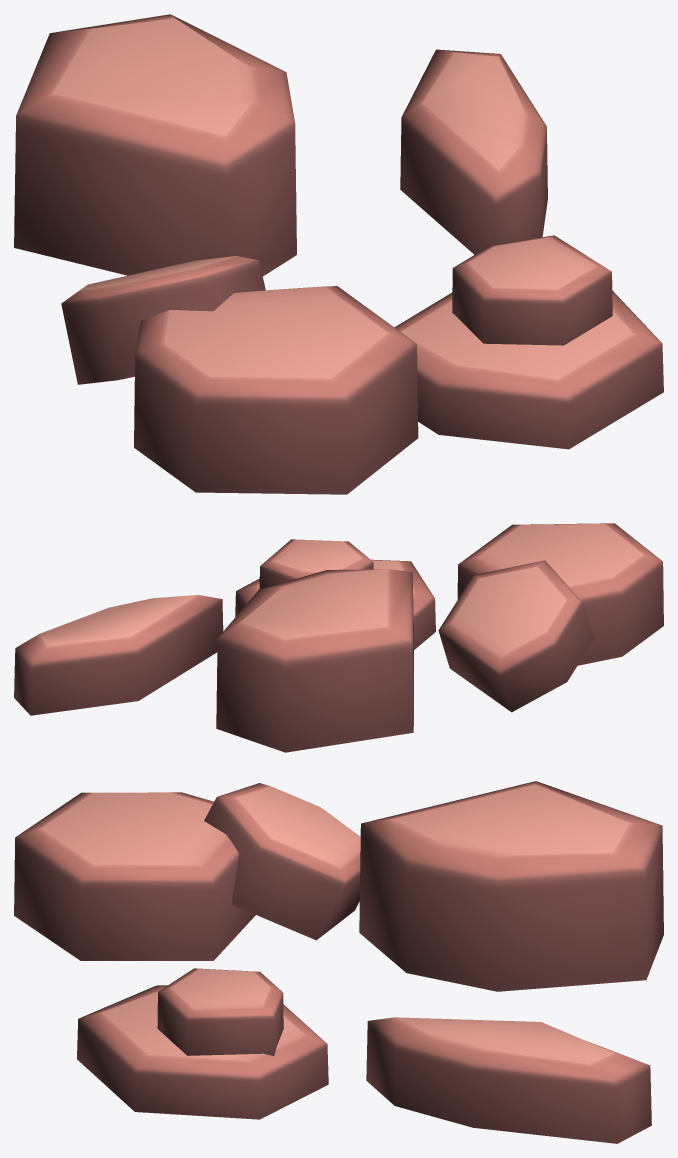
Rendered from StoneDead.FBX.
The picture shows the model from 3 angles, top to bottom: view 1: azimuth 30°, elevation 25°; view 2: azimuth 150°, elevation 25°; view 3: azimuth 270°, elevation 25°; orthographic projection. The views are drawn at different scales.
Visible parts, largest first — view 1: StoneDead; view 2: StoneDead; view 3: StoneDead.
Boxes of the visible parts, bbox=[...] form: StoneDead: bbox=[14, 14, 663, 494]; StoneDead: bbox=[14, 523, 663, 752]; StoneDead: bbox=[14, 781, 663, 1143].
Size of the model in its own units: 87.91 by 28.45 by 94.68.
